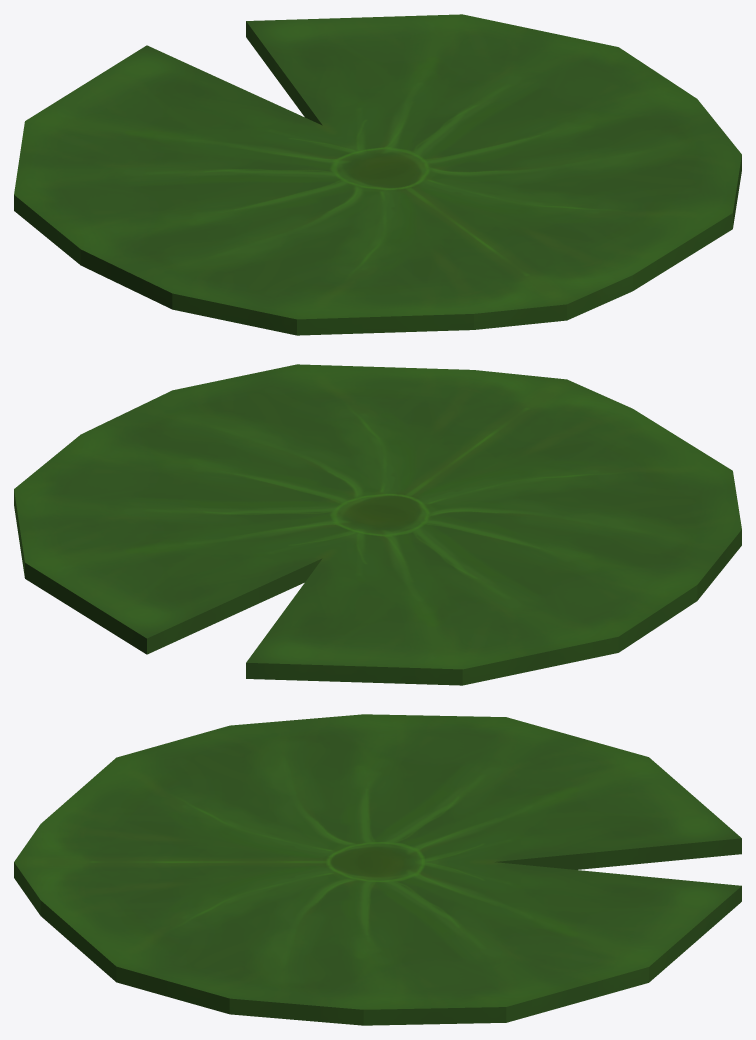
The model's file is Lilipad.glb.
3 renders of one model, top to bottom at view 1: azimuth 30°, elevation 25°; view 2: azimuth 150°, elevation 25°; view 3: azimuth 270°, elevation 25°, orthographic.
Parts seen in each view (by area): view 1: Circle; view 2: Circle; view 3: Circle.
Part boxes in pixels (x1,y1,x2,y2): Circle: [14, 14, 741, 335]; Circle: [14, 364, 741, 685]; Circle: [14, 714, 741, 1025].
Size of the model in its own units: 2.23 by 0.0558 by 2.32.
1 material, 1 textured.
